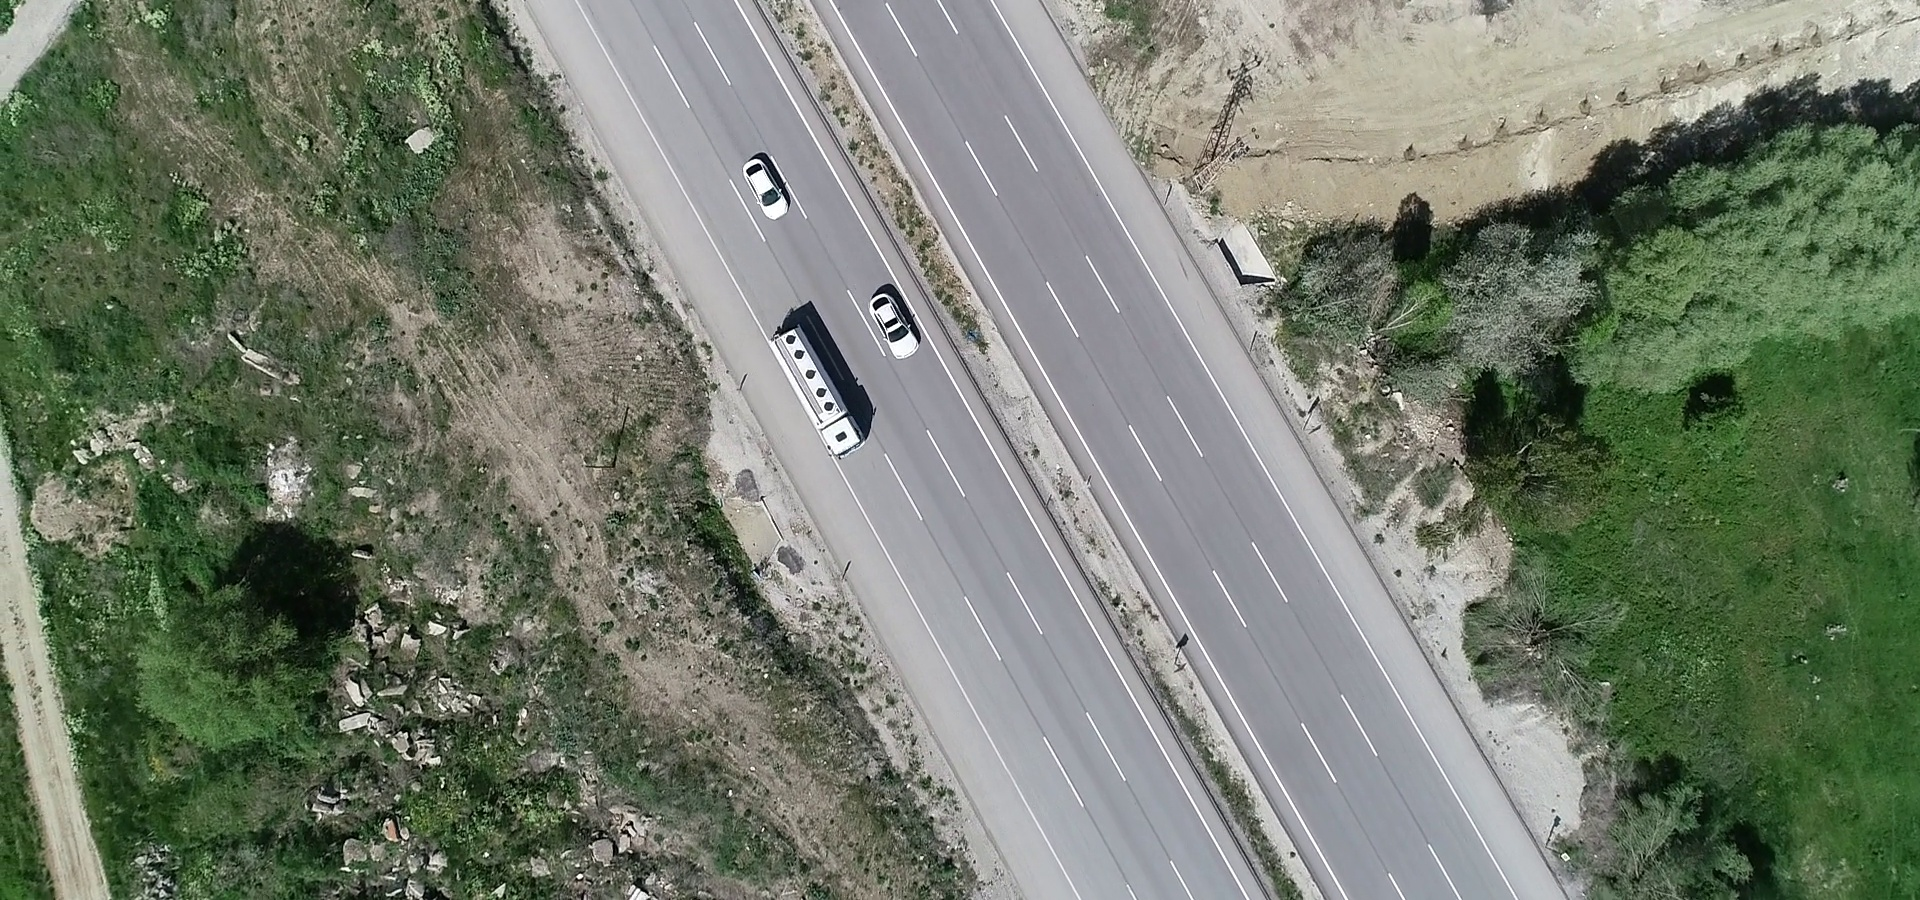araba: (871, 280, 923, 362), (737, 149, 789, 222)
kamyon: (756, 304, 873, 465)
